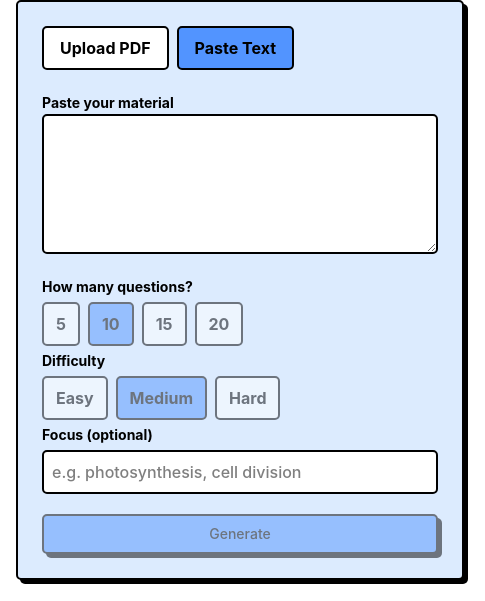
Test: SetupScreen › shows the upload size limit upfront, before any file is selected
Click the tab "Upload PDF" at (105, 48), box [42,26,169,70]
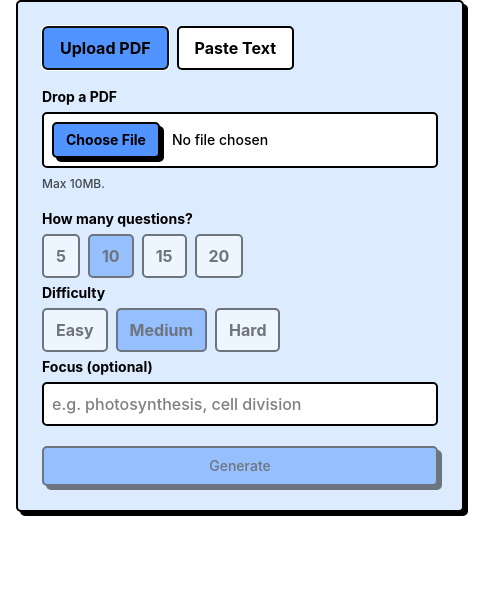
Check: the text "Max 10MB." is shown, box [42,176,105,191]
